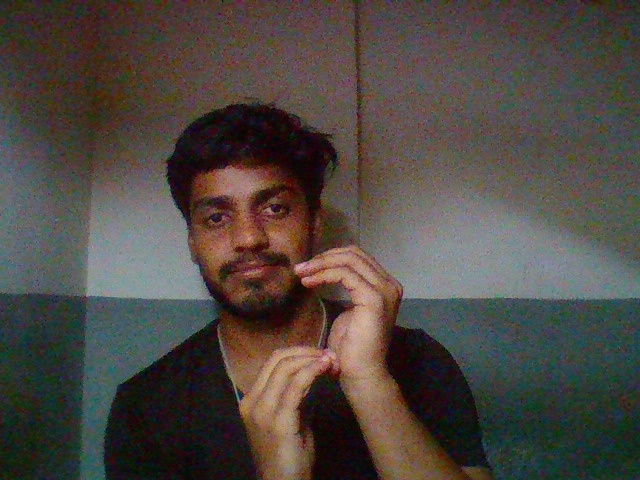S: (244, 238, 415, 466)
